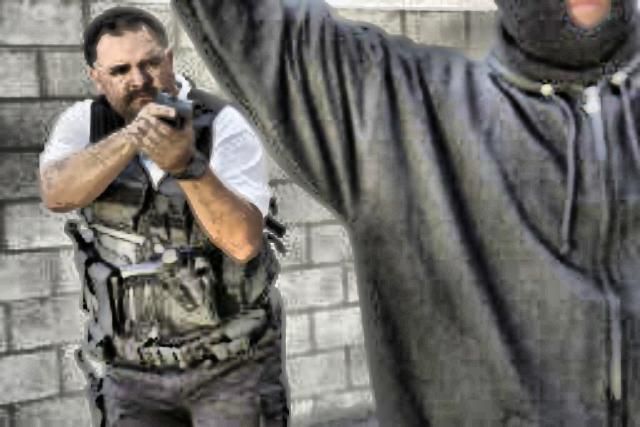pistol: (150, 83, 200, 135)
